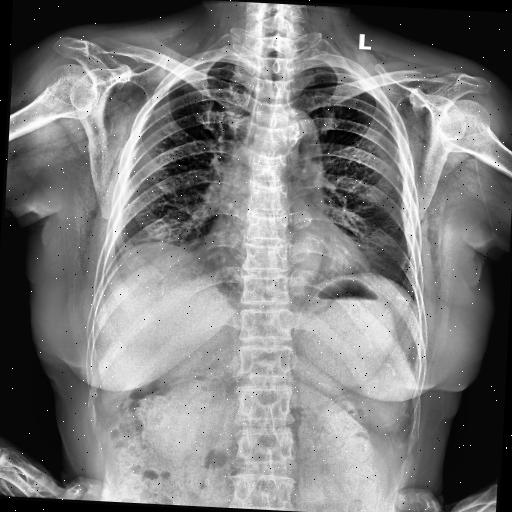0- Aortic enlargement: (270, 103, 326, 175), (272, 105, 326, 169), (274, 106, 324, 161)
3- Cardiomegaly: (188, 230, 378, 294), (192, 232, 382, 292), (192, 231, 374, 284)
9- Other lesion: (232, 108, 304, 162)
